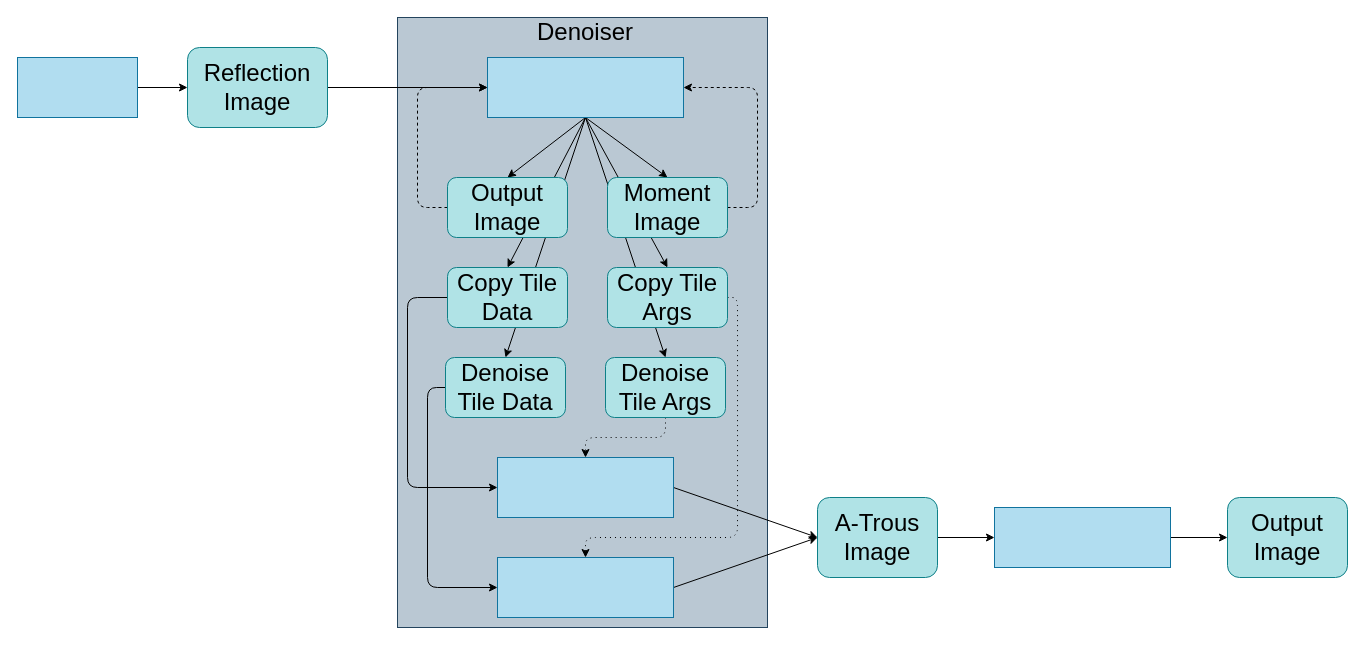
Image size: 1365x645. Some labels were removed from this diagram. Here are the shapes that lost their labels. From the top down, the centre of each, then its label:
the point at 77,87: RayTrace
the point at 585,87: Reprojection
the point at 585,487: Copy Tiles
the point at 1082,537: Upsampling
the point at 585,587: A-Trous Filter
